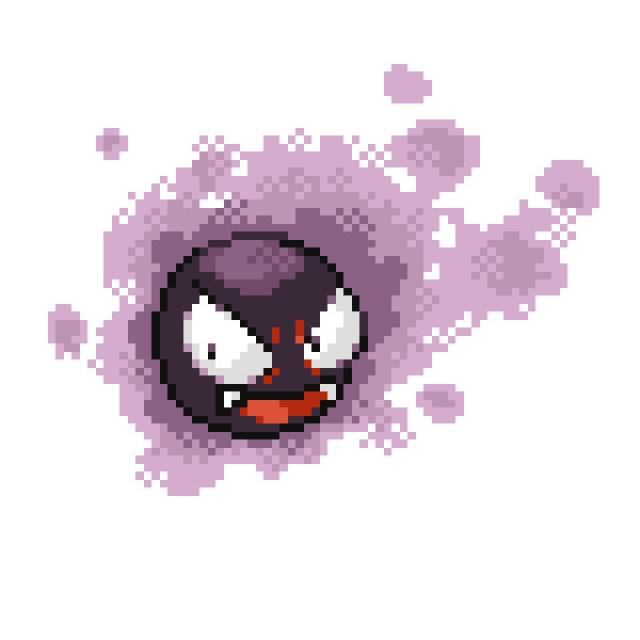Gastly: (100, 139, 454, 488)
